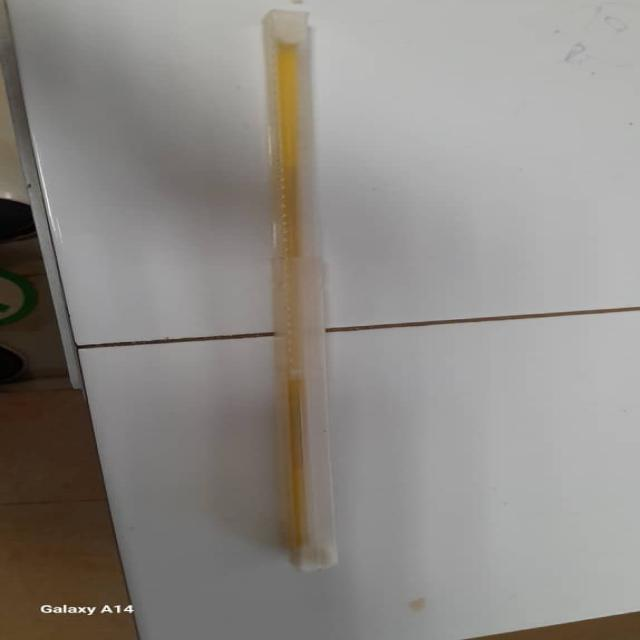Thermometer: (262, 4, 338, 582)
